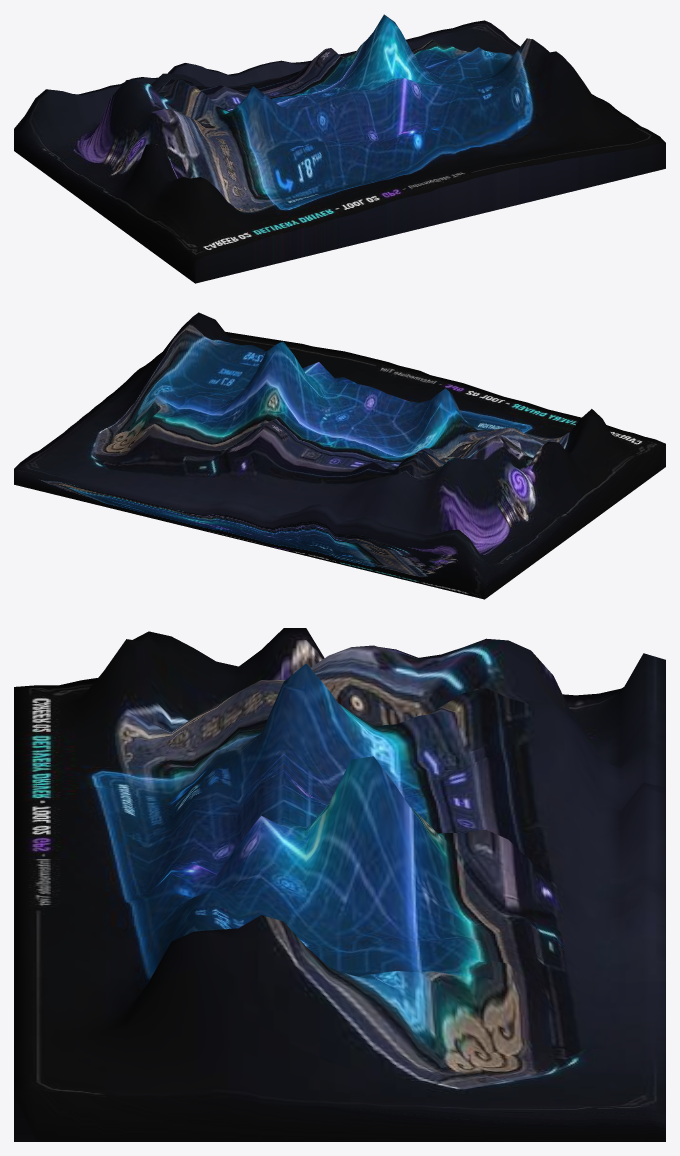
Rendered from CAREER_02_Tool_02_GPS.glb.
3 renders of one model, top to bottom at view 1: azimuth 30°, elevation 25°; view 2: azimuth 150°, elevation 25°; view 3: azimuth 270°, elevation 25°, orthographic. The views are drawn at different scales.
Visible parts, largest first — view 1: CAREER_02_Tool_02_GPS; view 2: CAREER_02_Tool_02_GPS; view 3: CAREER_02_Tool_02_GPS.
Boxes of the visible parts, <box> form: CAREER_02_Tool_02_GPS: <box>14,14,665,283</box>; CAREER_02_Tool_02_GPS: <box>14,312,665,599</box>; CAREER_02_Tool_02_GPS: <box>14,628,665,1141</box>.
Size of the model in its own units: 2 by 0.51 by 1.33.
Materials: 1 (1 with a texture image).
